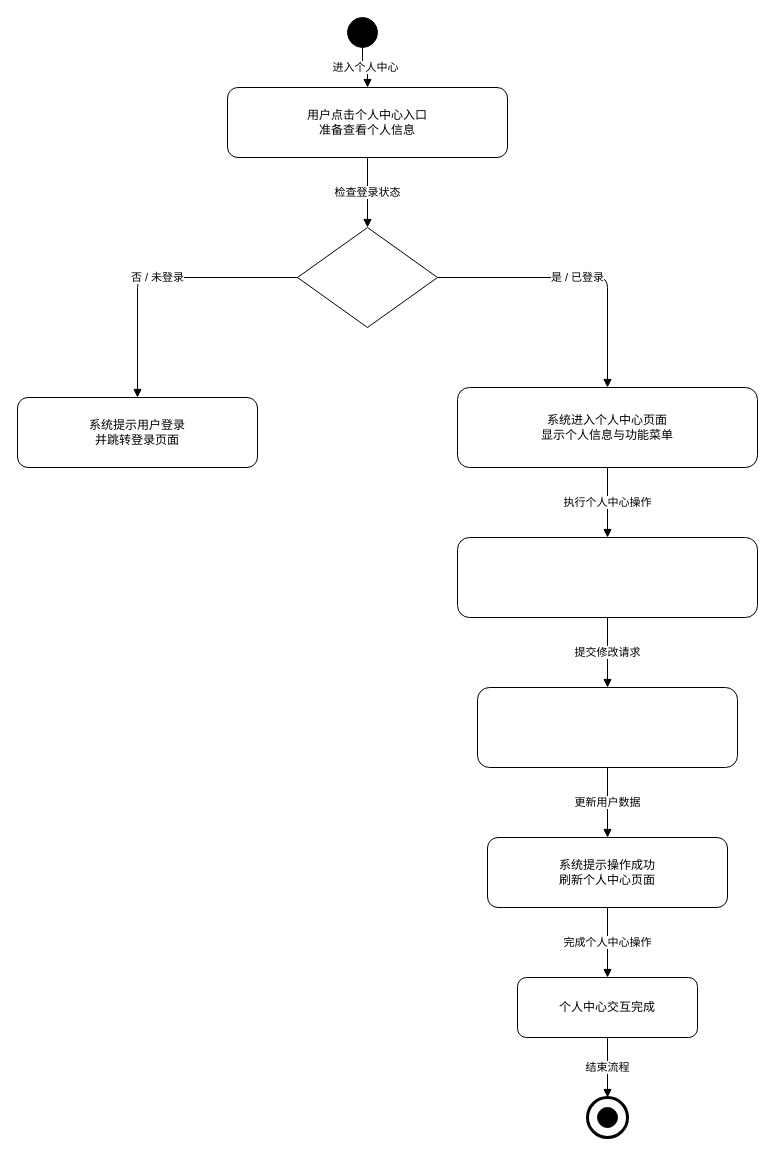
The diagram is 775 pixels wide and 1156 high, and some of its shapes have lost their labels. The centre of each missing label's shape, as x and y in pixels:
用户是否已登录？: the point at 367,277
用户编辑资料 查看历史、管理收藏或查看消息: the point at 607,577
系统接收用户操作请求 更新用户相关数据: the point at 607,727
